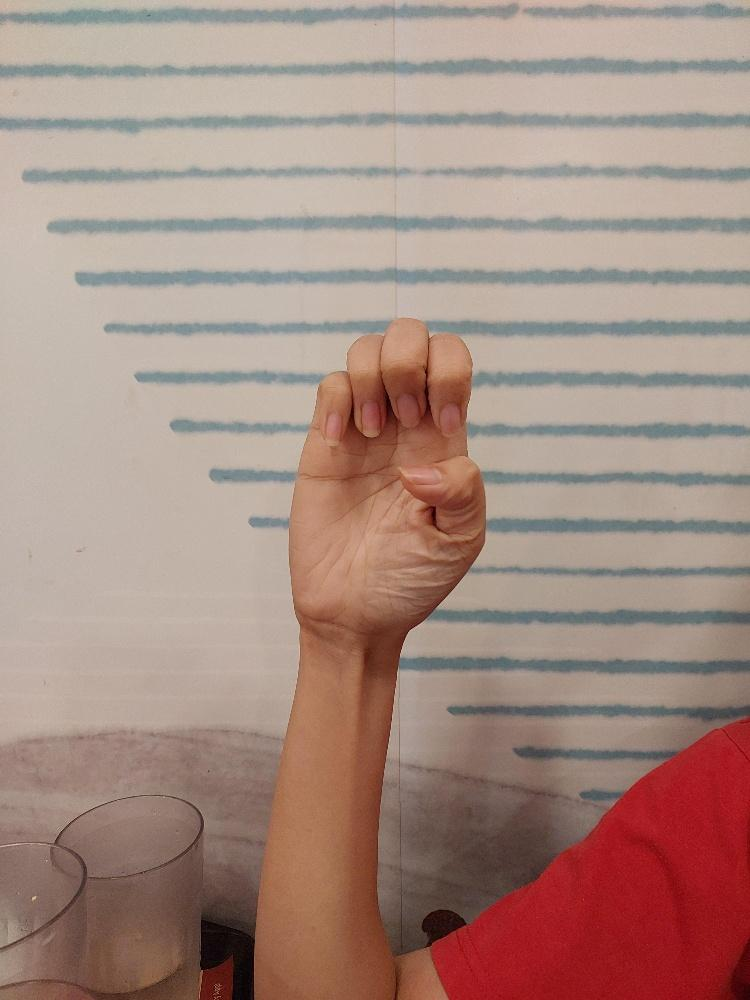e: (286, 314, 490, 642)
